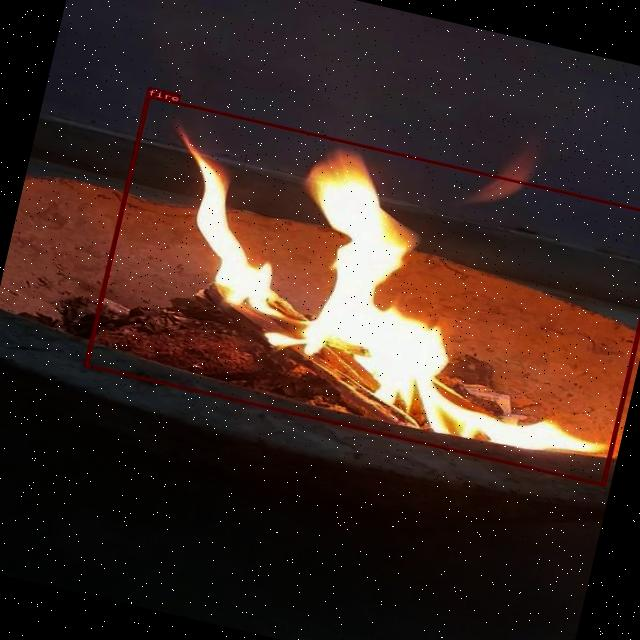fire: (82, 94, 640, 485)
